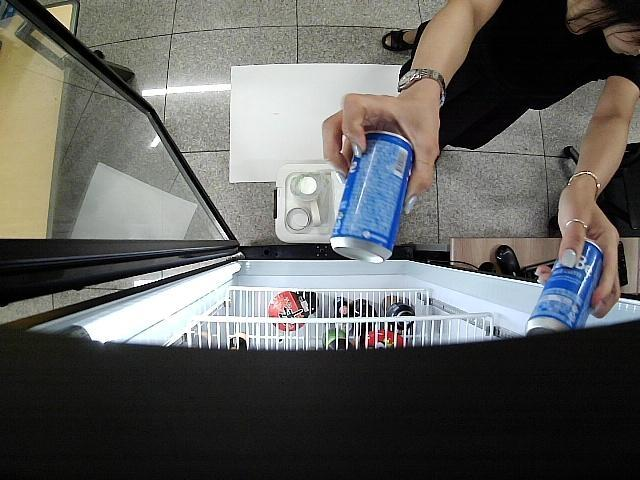15_letsbe: (330, 132, 416, 266), (525, 237, 605, 335)
